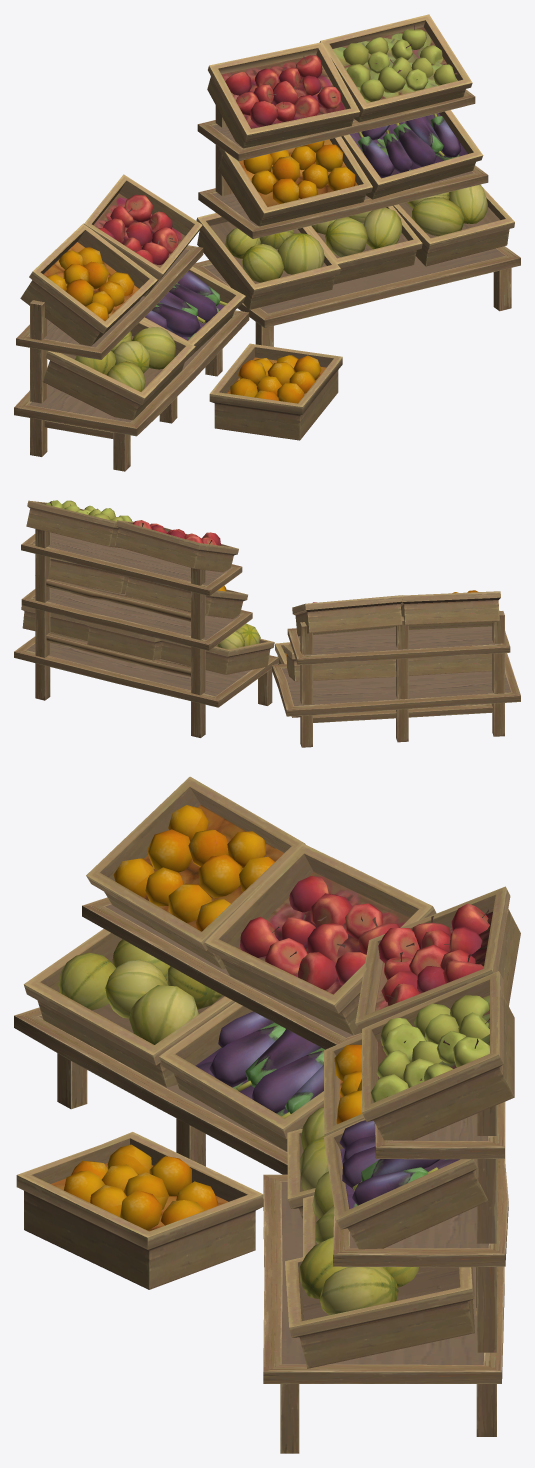
The model's file is Homeworld_Exterior_Fd_Decoration_Prop_GuoshuTanwei_01_Lod0.fbx.
The picture shows the model from 3 angles, top to bottom: view 1: azimuth 30°, elevation 25°; view 2: azimuth 150°, elevation 25°; view 3: azimuth 270°, elevation 25°; orthographic projection. The views are drawn at different scales.
Parts seen in each view (by area): view 1: Area_Fd_Prop_FDC_Tanwei_06_Lod0, Area_Fd_Prop_FDC_Tanwei_05_Lod0, Area_Fd_Prop_FDC_Tanwei_07_Vo; view 2: Area_Fd_Prop_FDC_Tanwei_06_Lod0, Area_Fd_Prop_FDC_Tanwei_05_Lod0; view 3: Area_Fd_Prop_FDC_Tanwei_06_Lod0, Area_Fd_Prop_FDC_Tanwei_05_Lod0, Area_Fd_Prop_FDC_Tanwei_07_Vo.
Boxes of the visible parts, x1=… form: Area_Fd_Prop_FDC_Tanwei_06_Lod0: x1=192, y1=14, x2=520, y2=346; Area_Fd_Prop_FDC_Tanwei_05_Lod0: x1=14, y1=174, x2=249, y2=471; Area_Fd_Prop_FDC_Tanwei_07_Vo: x1=209, y1=343, x2=342, y2=440; Area_Fd_Prop_FDC_Tanwei_06_Lod0: x1=14, y1=500, x2=278, y2=737; Area_Fd_Prop_FDC_Tanwei_05_Lod0: x1=272, y1=590, x2=520, y2=747; Area_Fd_Prop_FDC_Tanwei_06_Lod0: x1=263, y1=886, x2=520, y2=1453; Area_Fd_Prop_FDC_Tanwei_05_Lod0: x1=14, y1=776, x2=436, y2=1174; Area_Fd_Prop_FDC_Tanwei_07_Vo: x1=16, y1=1132, x2=263, y2=1289.
Bounding box in the file's own units: 3.86 × 1.71 × 2.01.
1 material, 1 textured.
